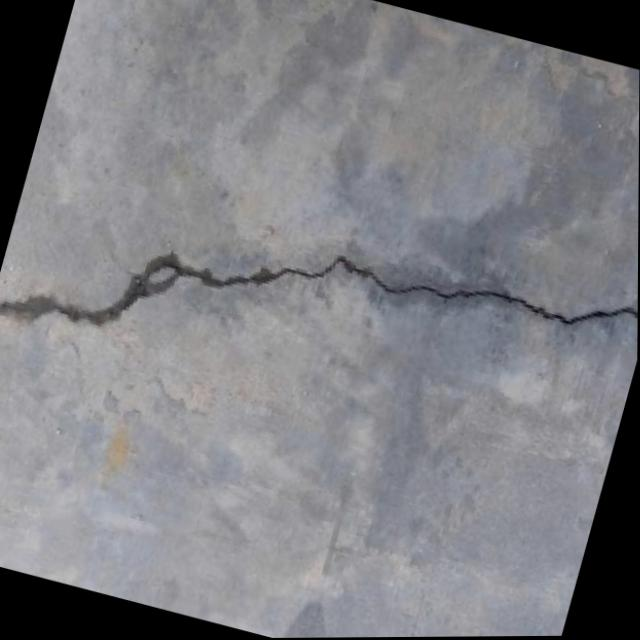Crack: (0, 105, 639, 499)
